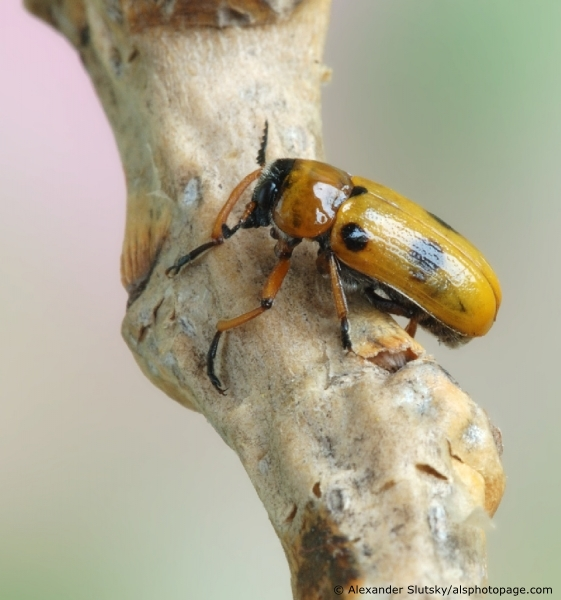Tituboea_macropus: (163, 106, 507, 409)
